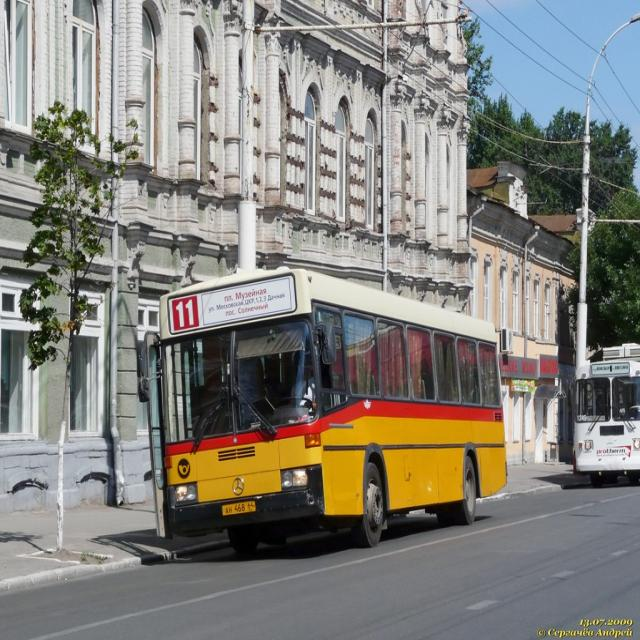number-of-bus: (175, 297, 199, 331)
